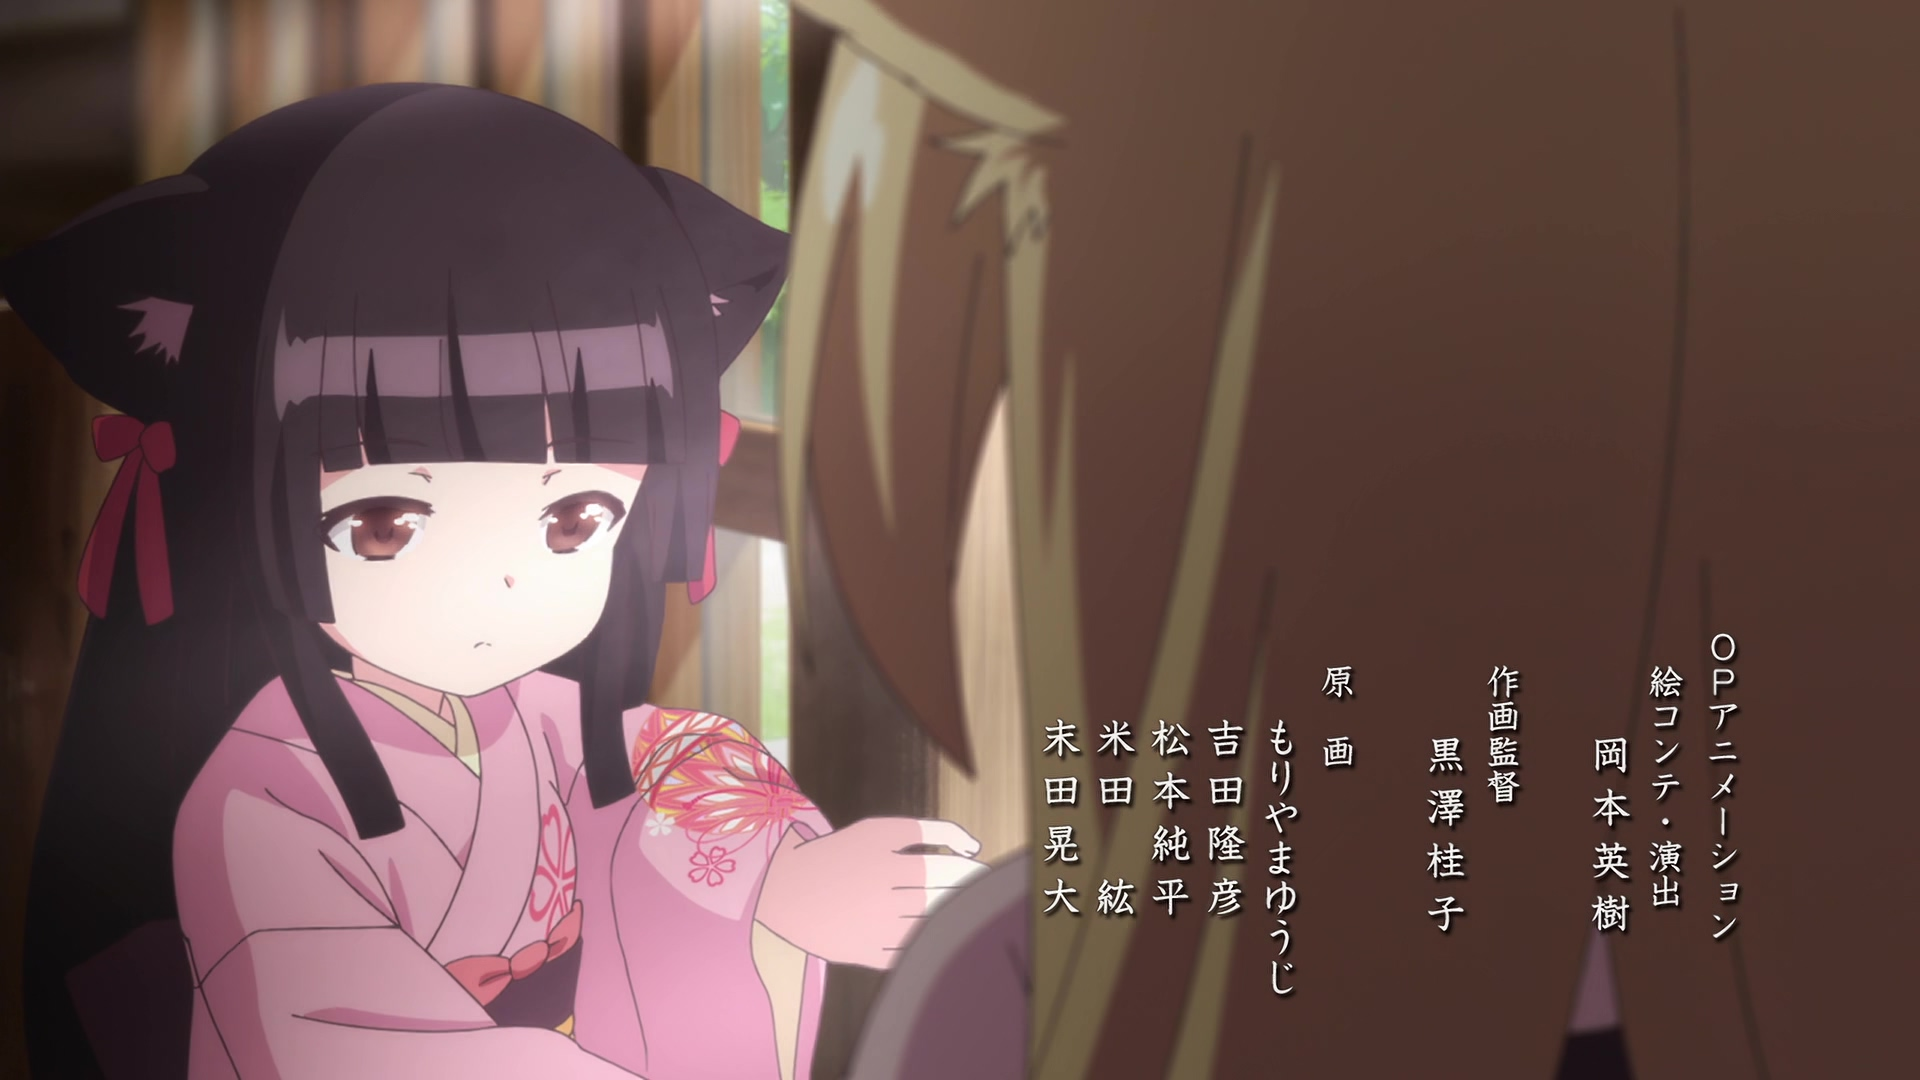柚: (781, 1, 1920, 1080)
樱: (1, 83, 992, 1080)
